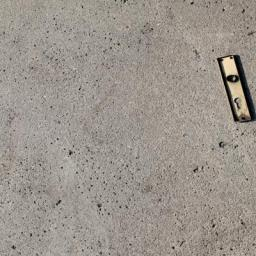FOD: (213, 51, 256, 124)
